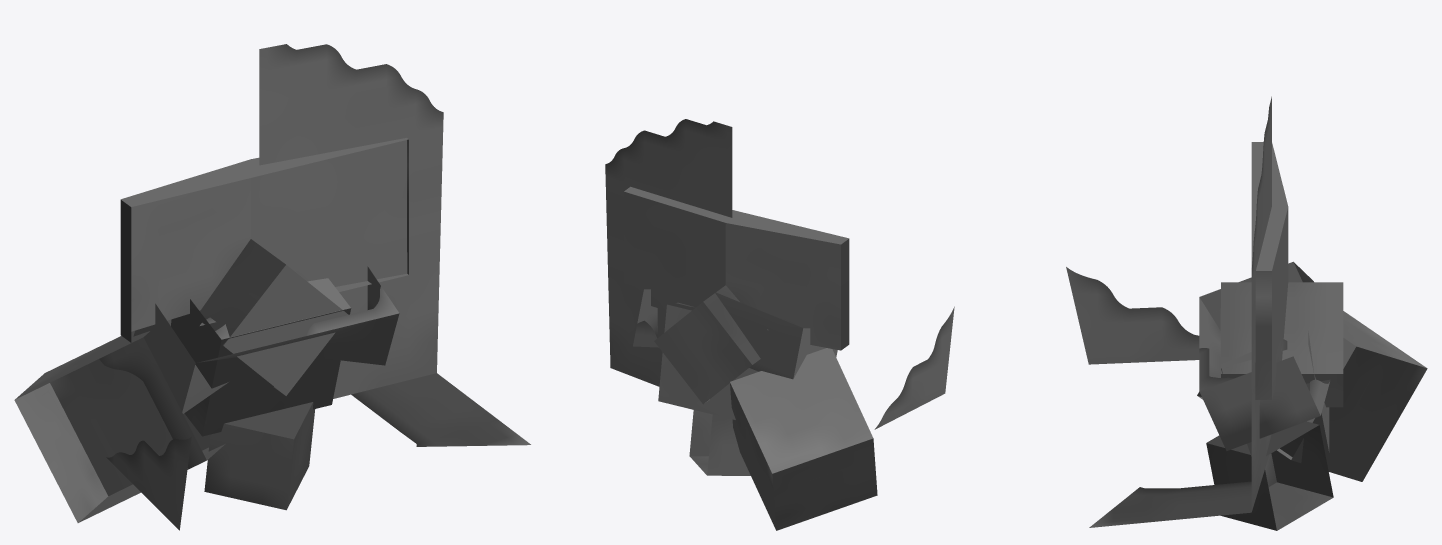
The model's file is gasmask_alt_h.obj.
The picture shows the model from 3 angles, left to right: view 1: azimuth 30°, elevation 25°; view 2: azimuth 150°, elevation 25°; view 3: azimuth 270°, elevation 25°; orthographic projection. The views are drawn at different scales.
Parts seen in each view (by area): view 1: mesh; view 2: mesh; view 3: mesh.
Boxes of the visible parts, x1=… form: mesh: x1=14, y1=44, x2=530, y2=530; mesh: x1=605, y1=119, x2=954, y2=530; mesh: x1=1066, y1=96, x2=1427, y2=530.
Size of the model in its own units: 0.6557 by 0.761 by 0.6452.
